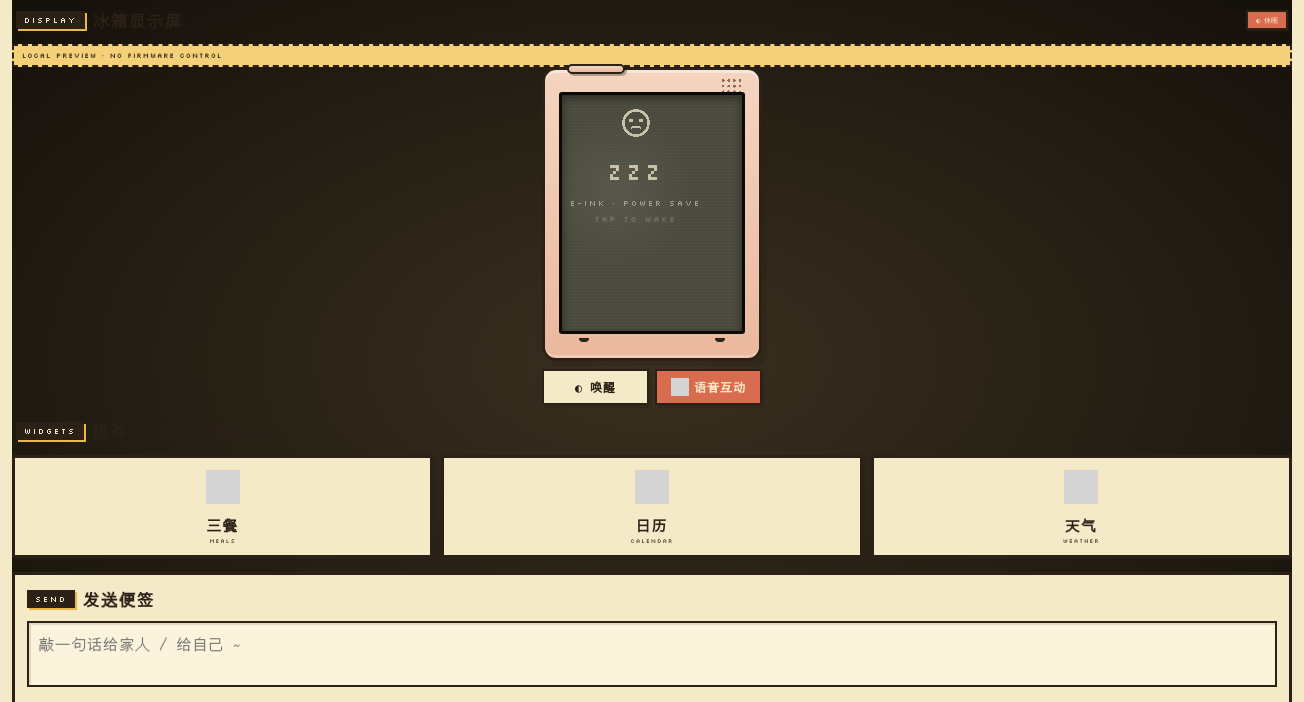
Test: DeviceDisplayScene › ports meals, calendar, and weather widgets with a fixed clock
The image size is (1304, 702).
Click the button "三餐 MEALS" at (223, 506), box x1=12 y1=455 x2=433 y2=558
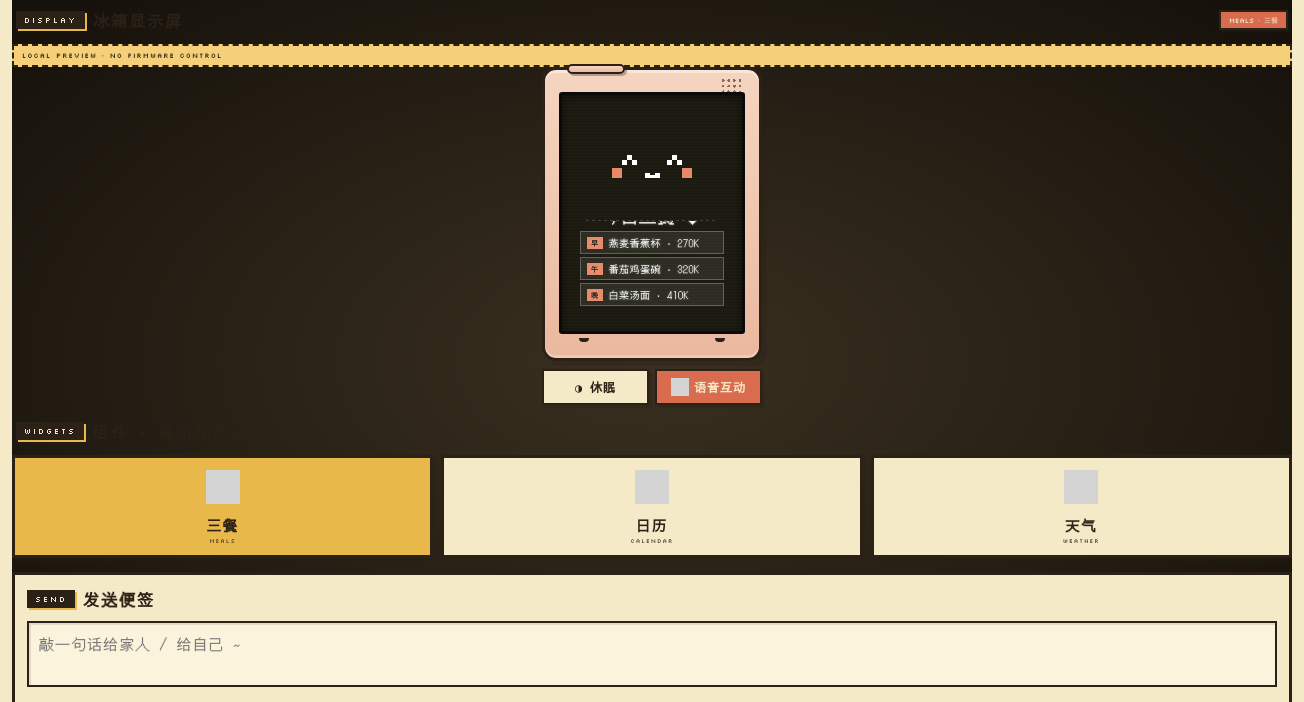
Expected: the element with test id "display-widget-meals" shows "番茄鸡蛋碗 · 320K", x1=608 y1=261 x2=700 y2=276
Click the button "日历 CALENDAR" at (652, 506), box x1=441 y1=455 x2=863 y2=558
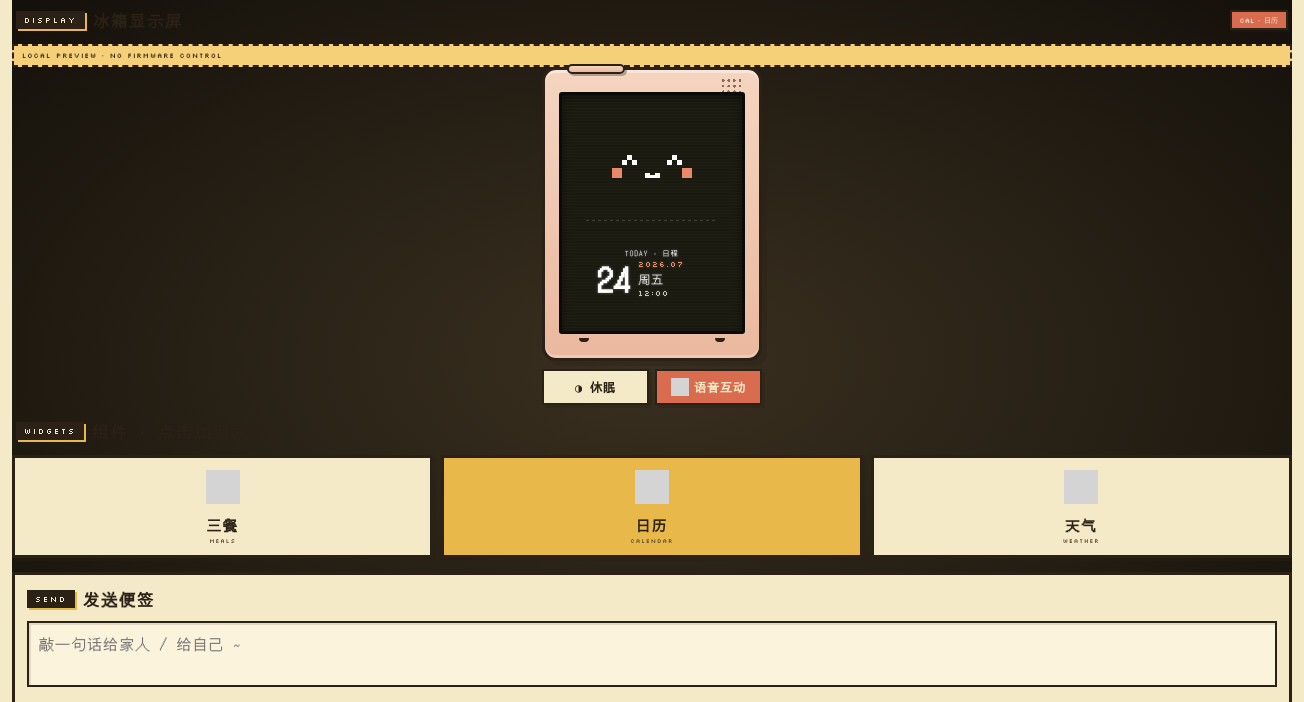
Expected: the element with test id "display-widget-calendar" shows "2026.07", x1=597 y1=248 x2=684 y2=301
Expected: the element with test id "display-widget-calendar" shows "12:00", x1=597 y1=248 x2=684 y2=301
Click the button "天气 WEATHER" at (1081, 506), box x1=871 y1=455 x2=1292 y2=558
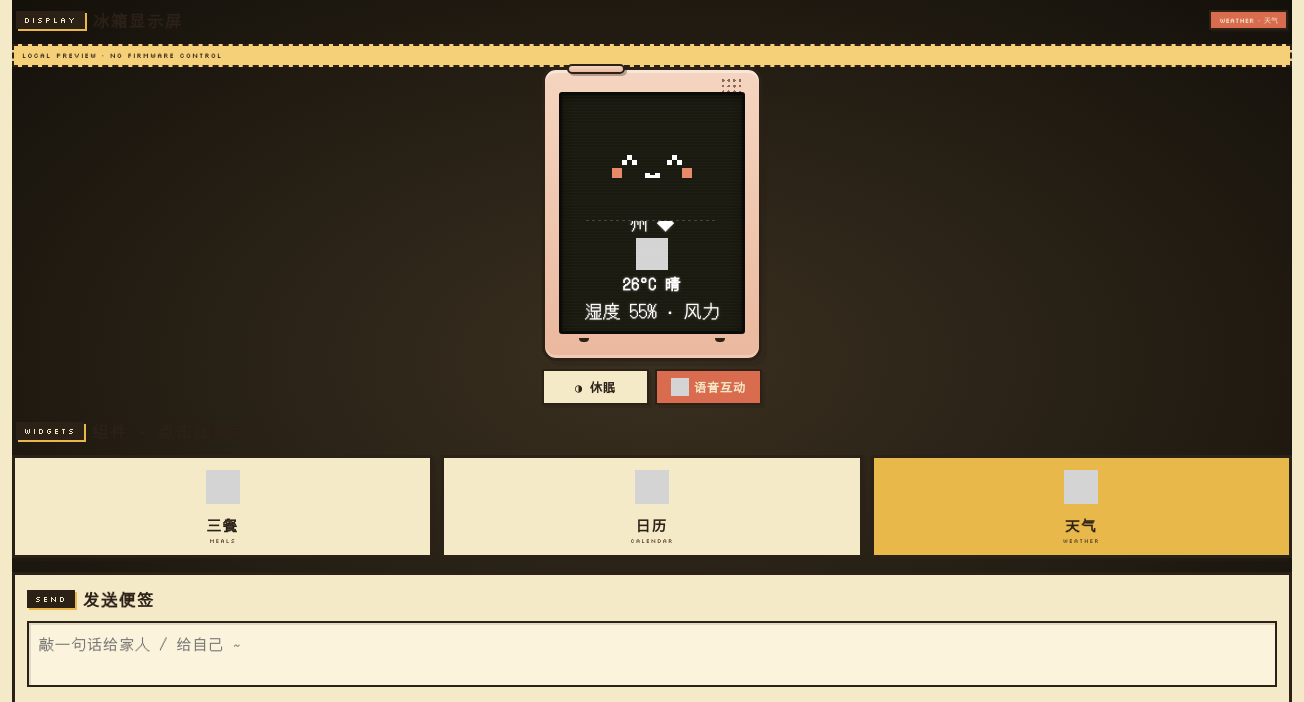
Expected: the element with test id "display-widget-weather" shows "26°C 晴", x1=623 y1=273 x2=681 y2=294
